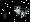person: (23, 6, 30, 17), (15, 7, 22, 17)
